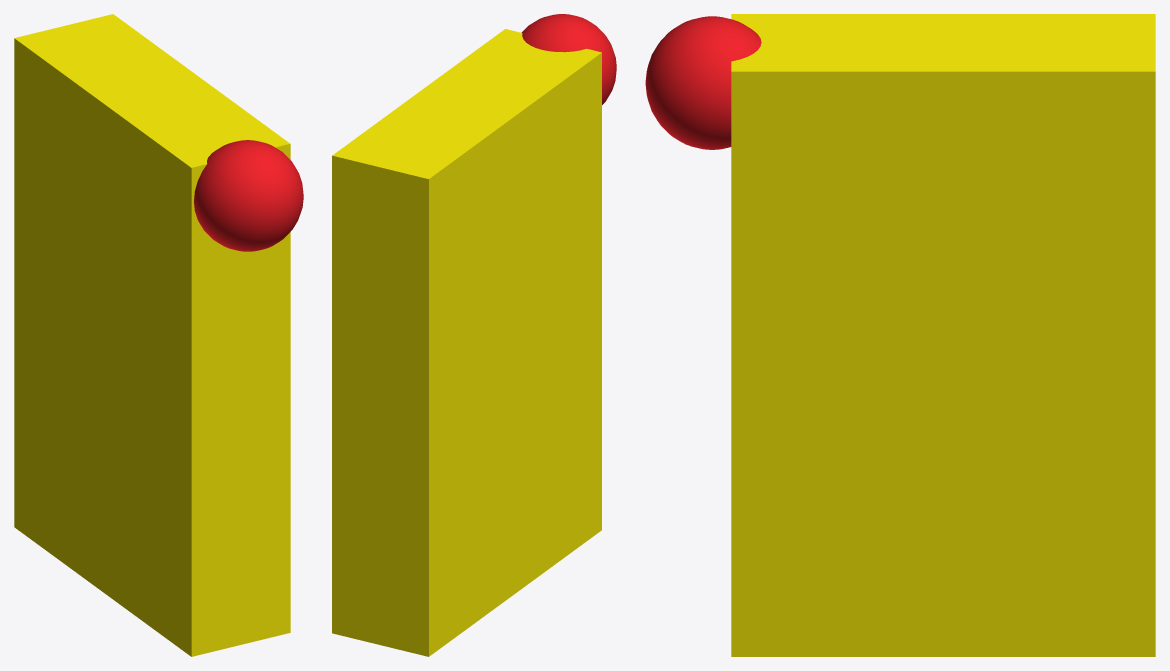
The model's file is Enemy.fbx.
The picture shows the model from 3 angles, left to right: view 1: azimuth 30°, elevation 25°; view 2: azimuth 150°, elevation 25°; view 3: azimuth 270°, elevation 25°; orthographic projection. The views are drawn at different scales.
Visible parts, largest first — view 1: Box001, Sphere001; view 2: Box001, Sphere001; view 3: Box001, Sphere001.
Boxes of the visible parts, <box> form: Box001: <box>14,14,290,656</box>; Sphere001: <box>194,140,303,251</box>; Box001: <box>332,29,601,656</box>; Sphere001: <box>521,14,616,104</box>; Box001: <box>731,14,1155,656</box>; Sphere001: <box>645,16,761,149</box>.
Bounding box in the file's own units: 23.39 × 87.21 × 114.
2 materials, 2 textured.
